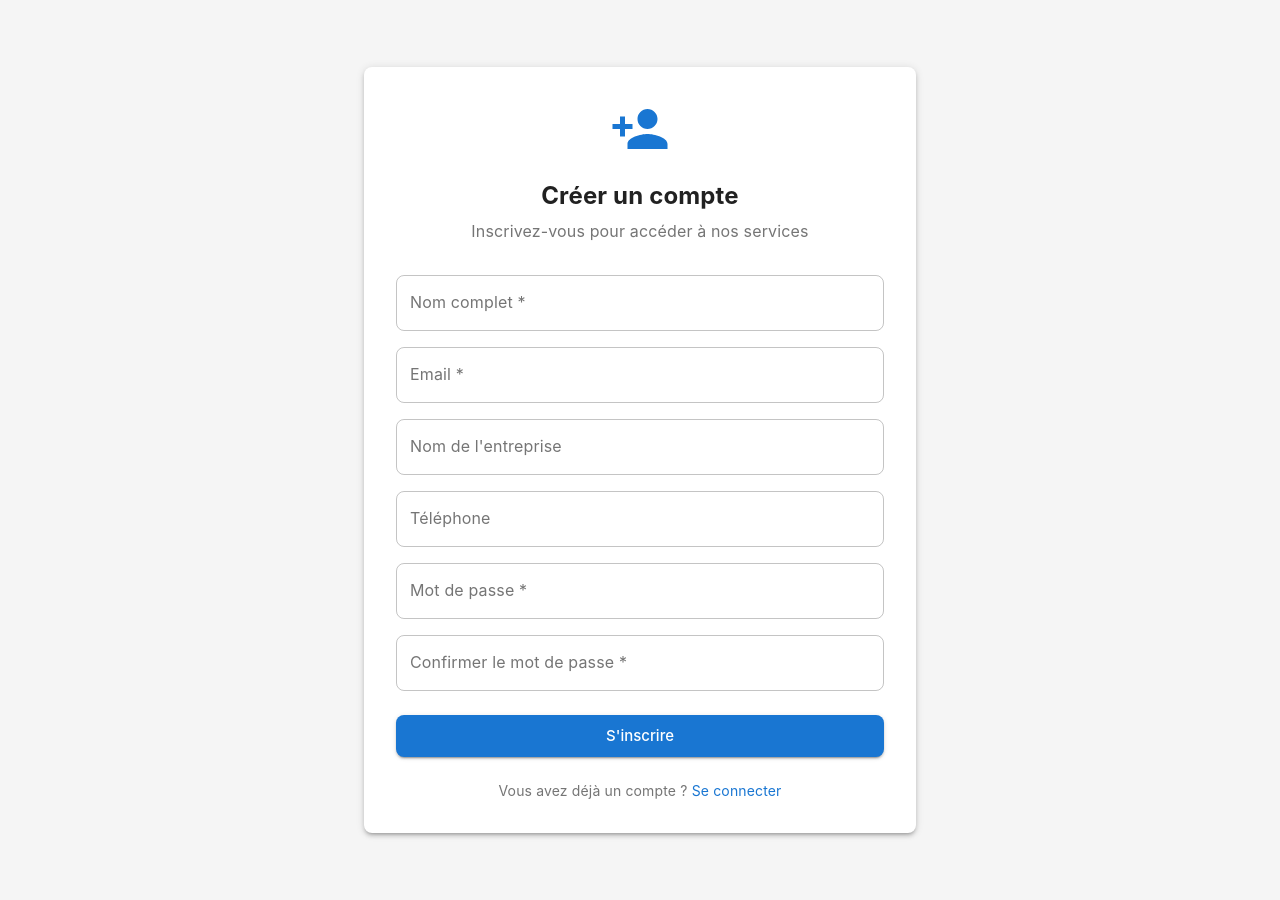
Test case: ClientRegisterPage › échec serveur → affiche le message d'erreur et ne navigue pas
Step 1. Type "Jean Tremblay" into the field labelled "Nom complet *" → (640, 303), box [396, 275, 884, 331]
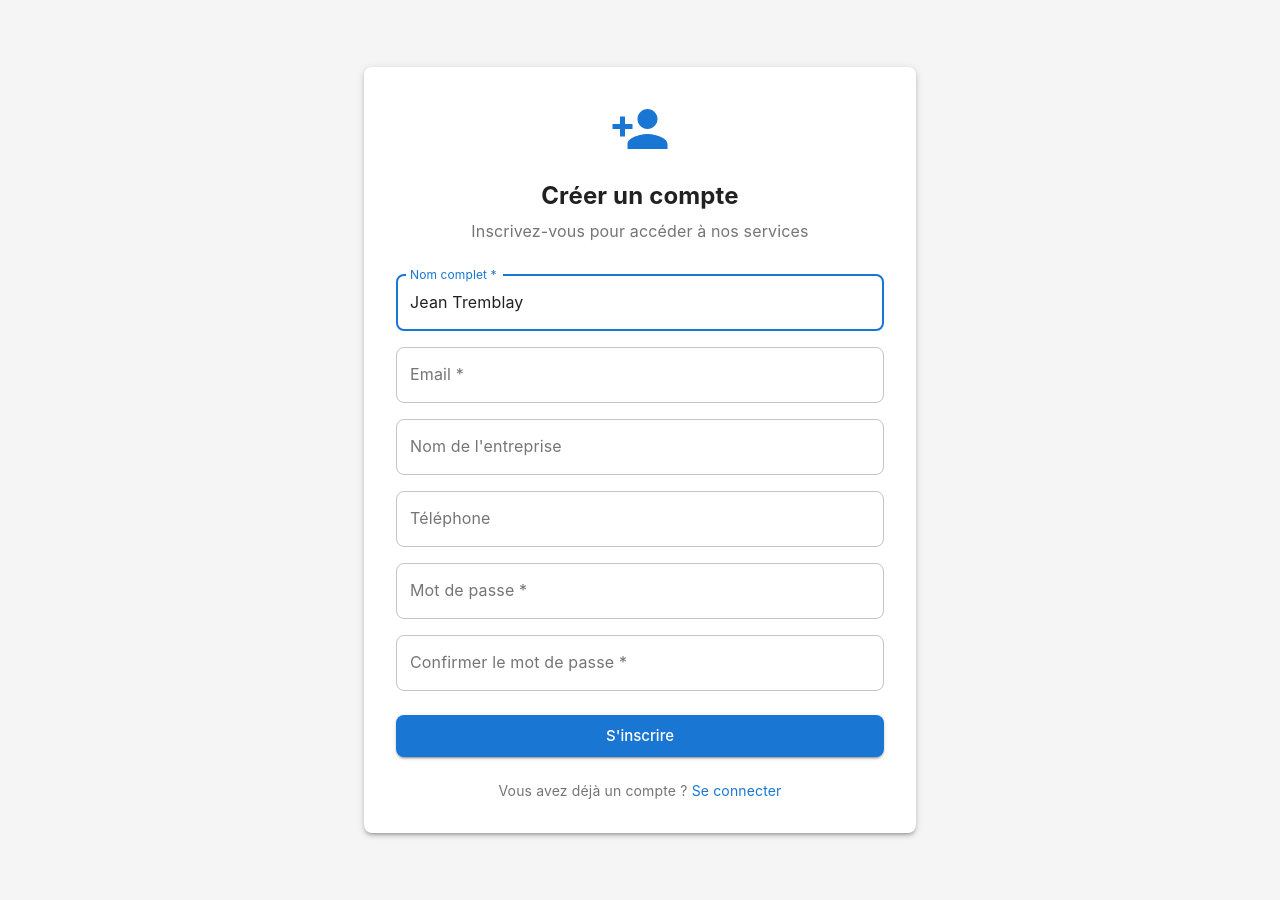
Step 2. Type "jean@exemple.com" into the field labelled "Email *" → (640, 375), box [396, 347, 884, 403]
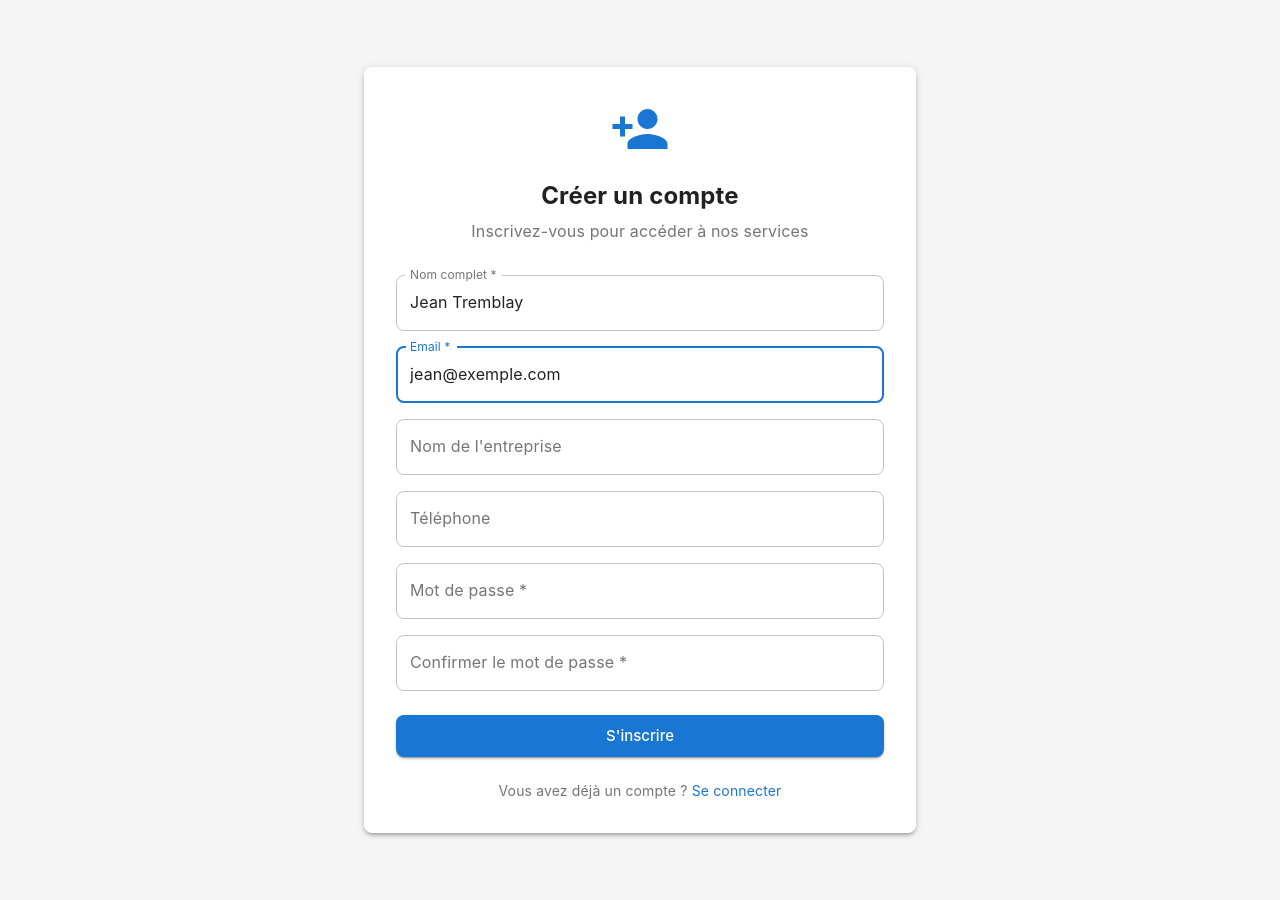
Step 3. Type "secret123" into the password field labelled "Mot de passe *" → (640, 591), box [396, 563, 884, 619]
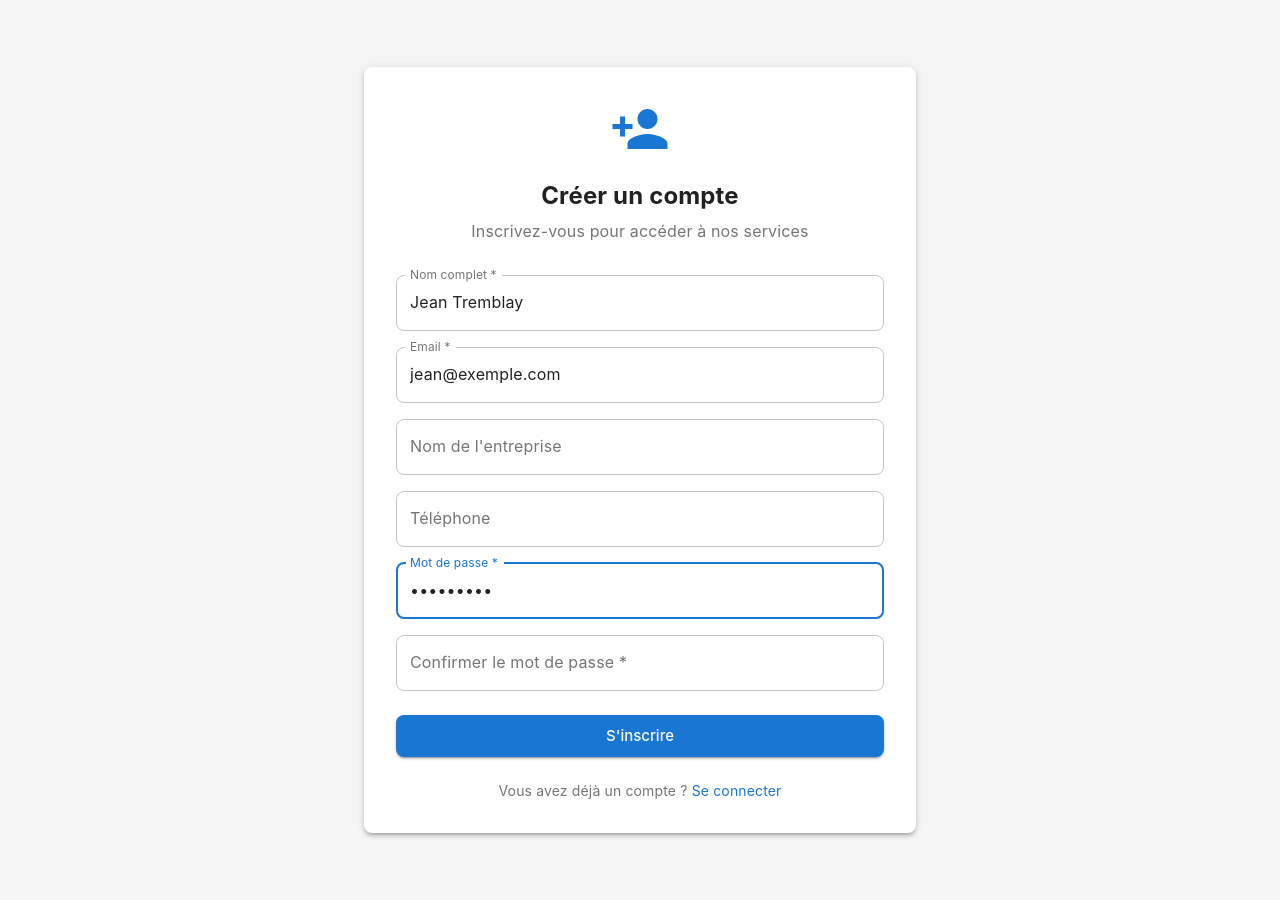
Step 4. Type "secret123" into the password field labelled "Confirmer le mot de passe *" → (640, 663), box [396, 635, 884, 691]
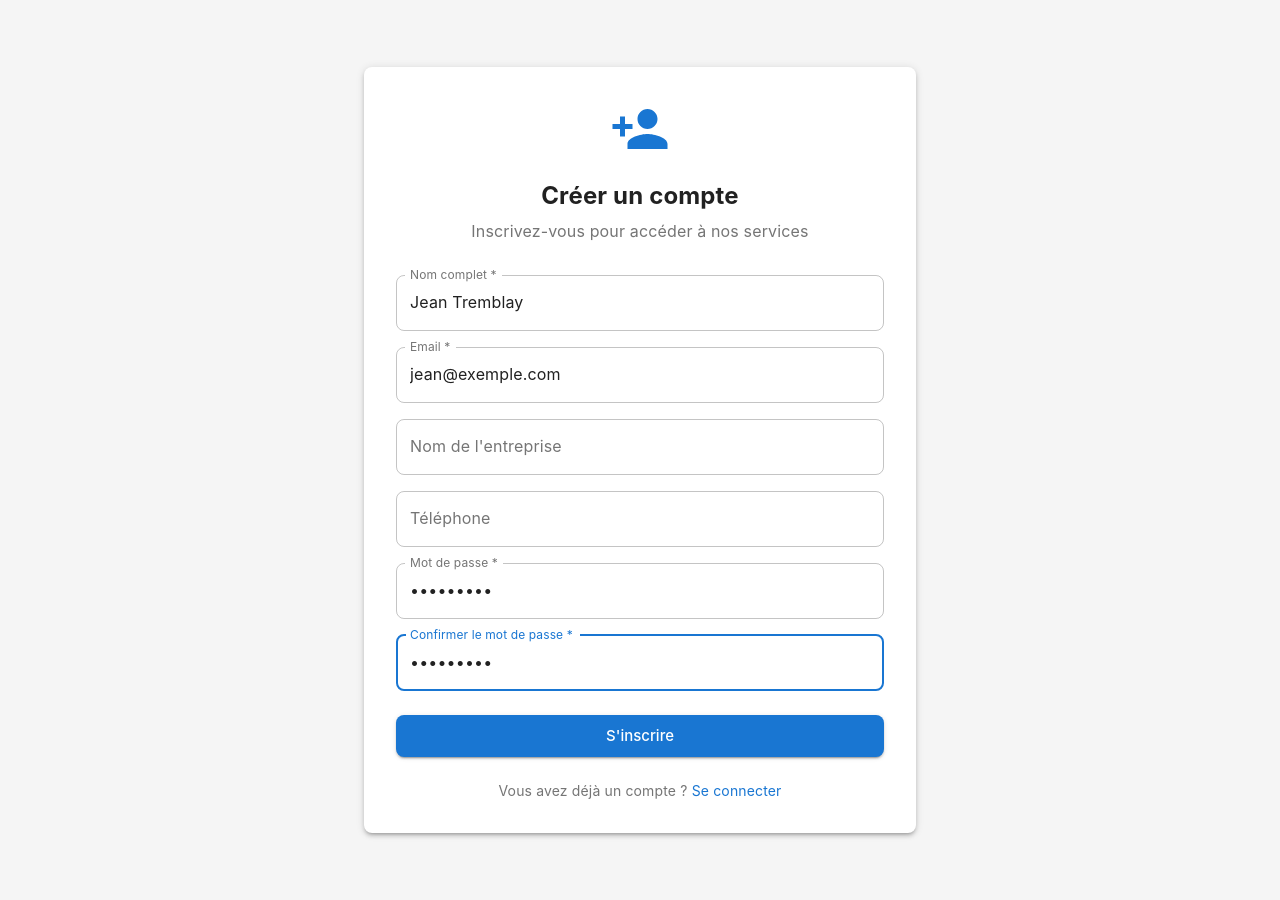
Step 5. Click the button "S'inscrire" → (640, 736), box [396, 715, 884, 757]
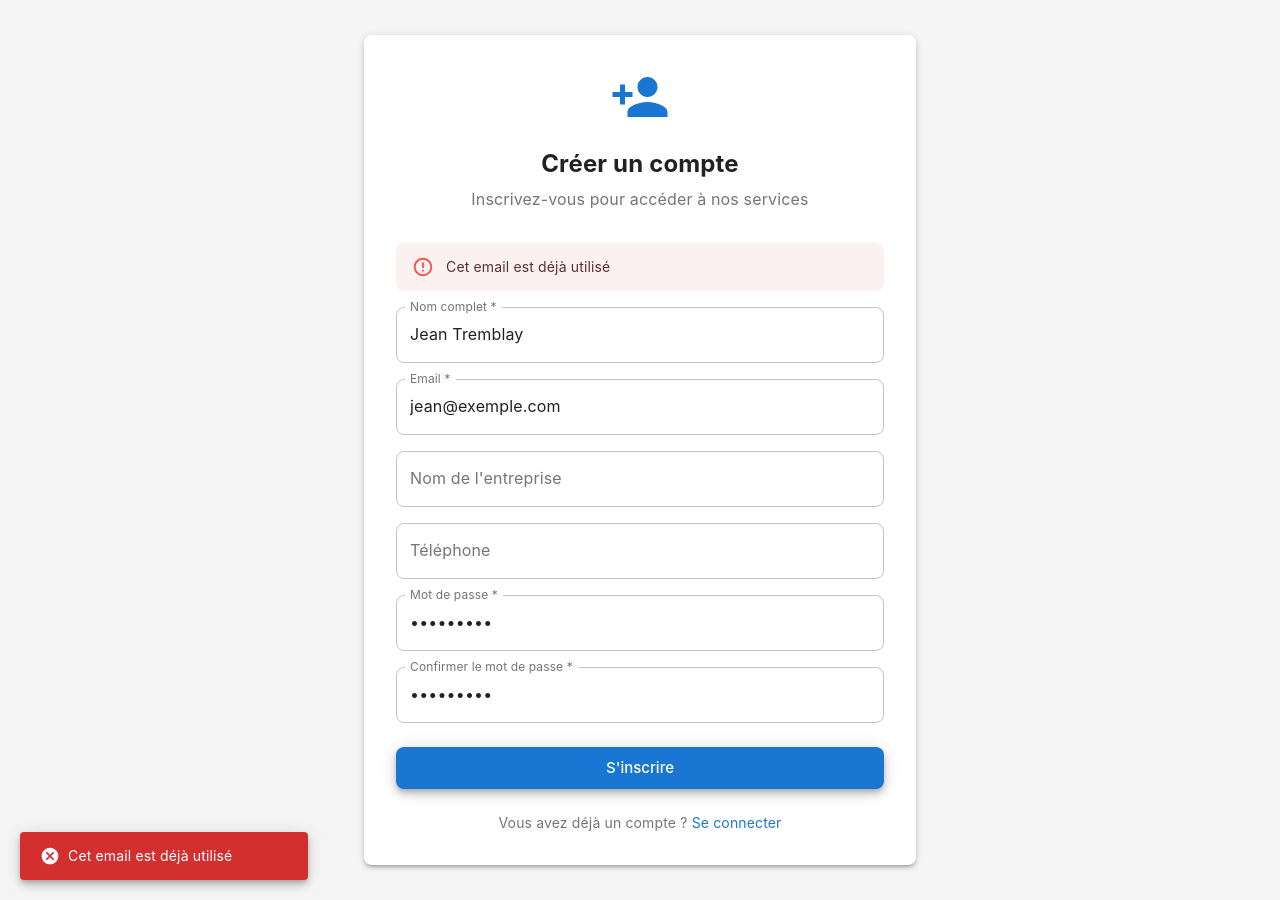
Check: the text "Cet email est déjà utilisé" is shown, box [446, 258, 610, 275]
